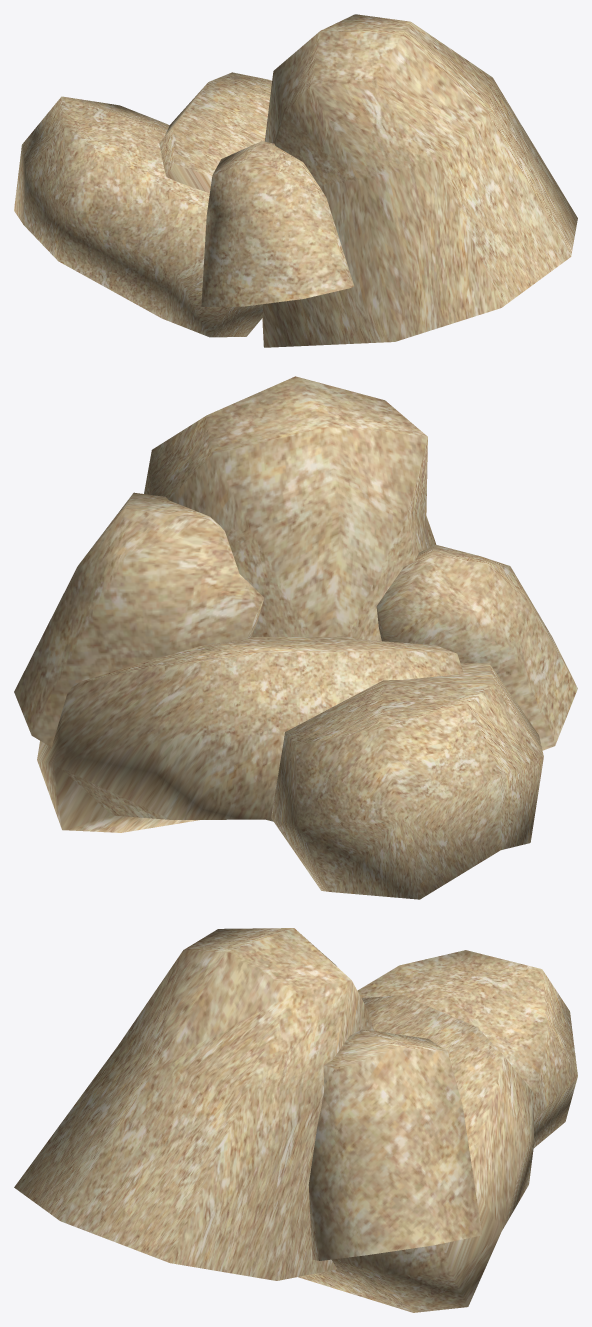
File: tatt_rock_formation_a3_l0.fbx
The picture shows the model from 3 angles, top to bottom: view 1: azimuth 30°, elevation 25°; view 2: azimuth 150°, elevation 25°; view 3: azimuth 270°, elevation 25°; orthographic projection. The views are drawn at different scales.
Parts seen in each view (by area): view 1: mesh_node; view 2: mesh_node; view 3: mesh_node.
Boxes of the visible parts, box(x1,y1,x2,y2) form: mesh_node: box(14, 14, 577, 347); mesh_node: box(14, 376, 577, 899); mesh_node: box(14, 928, 577, 1312).
Bounding box in the file's own units: 9.51 × 6.48 × 9.85.
1 material, 1 textured.
